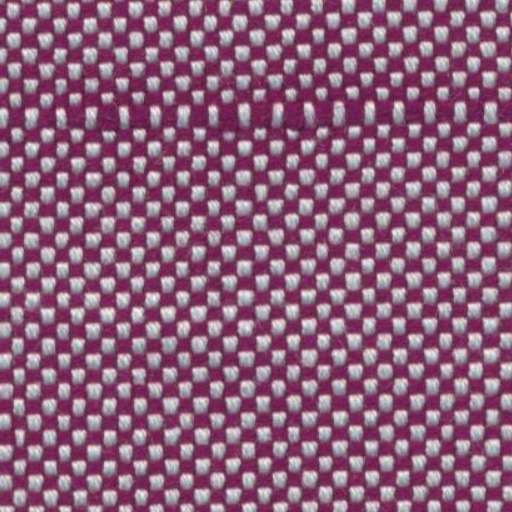DaiSha: (45, 92, 498, 140)
